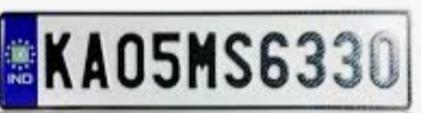0: (368, 26, 404, 91), (115, 31, 149, 90)
3: (293, 27, 329, 91), (332, 29, 365, 90)
5: (150, 25, 183, 90)
6: (260, 26, 294, 91)
A: (78, 28, 111, 91)
K: (42, 30, 77, 95)
M: (185, 28, 220, 91)
S: (221, 26, 257, 92)
